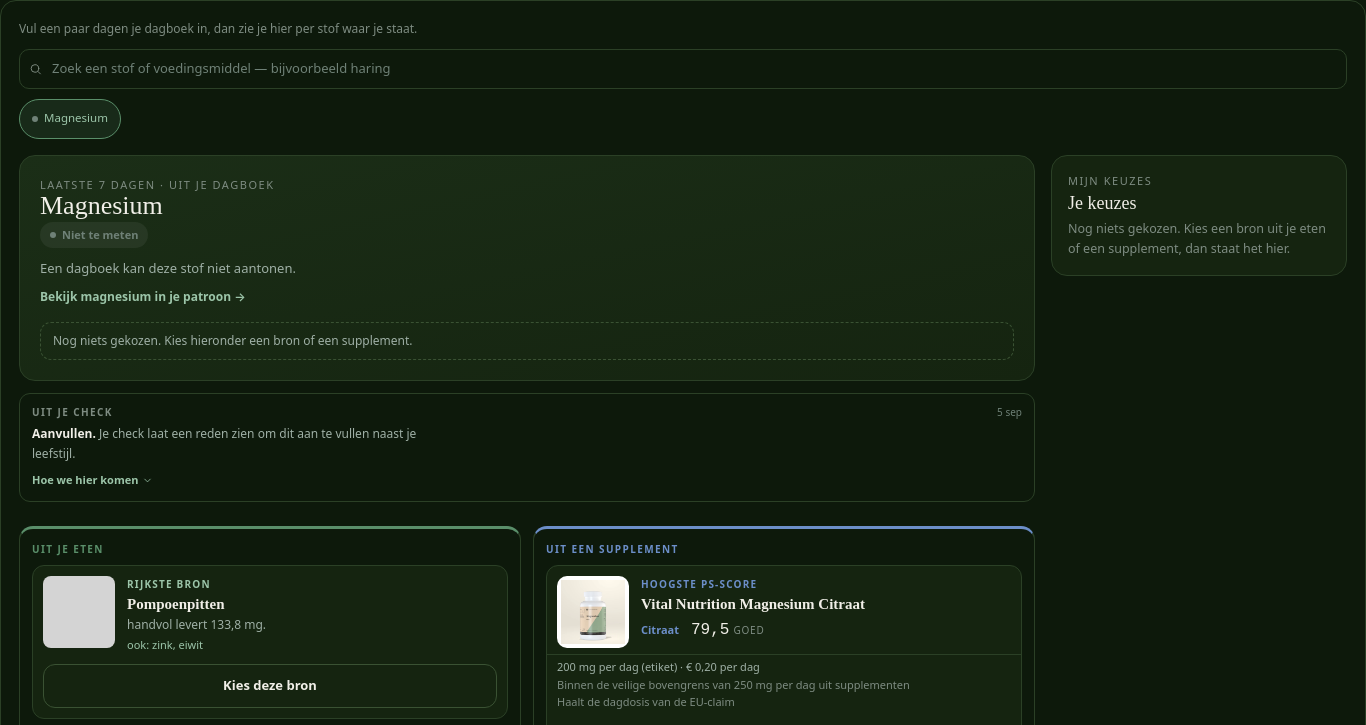
KeuzeVergelijken › toont het oordeel uit je check alleen als antwoord waar het dagboek de stof niet kan meten
Expected: the text "Zekerheid" is not shown
Click the button "Hoe we hier komen".
click(93, 480)  # box [32,471,154,489]
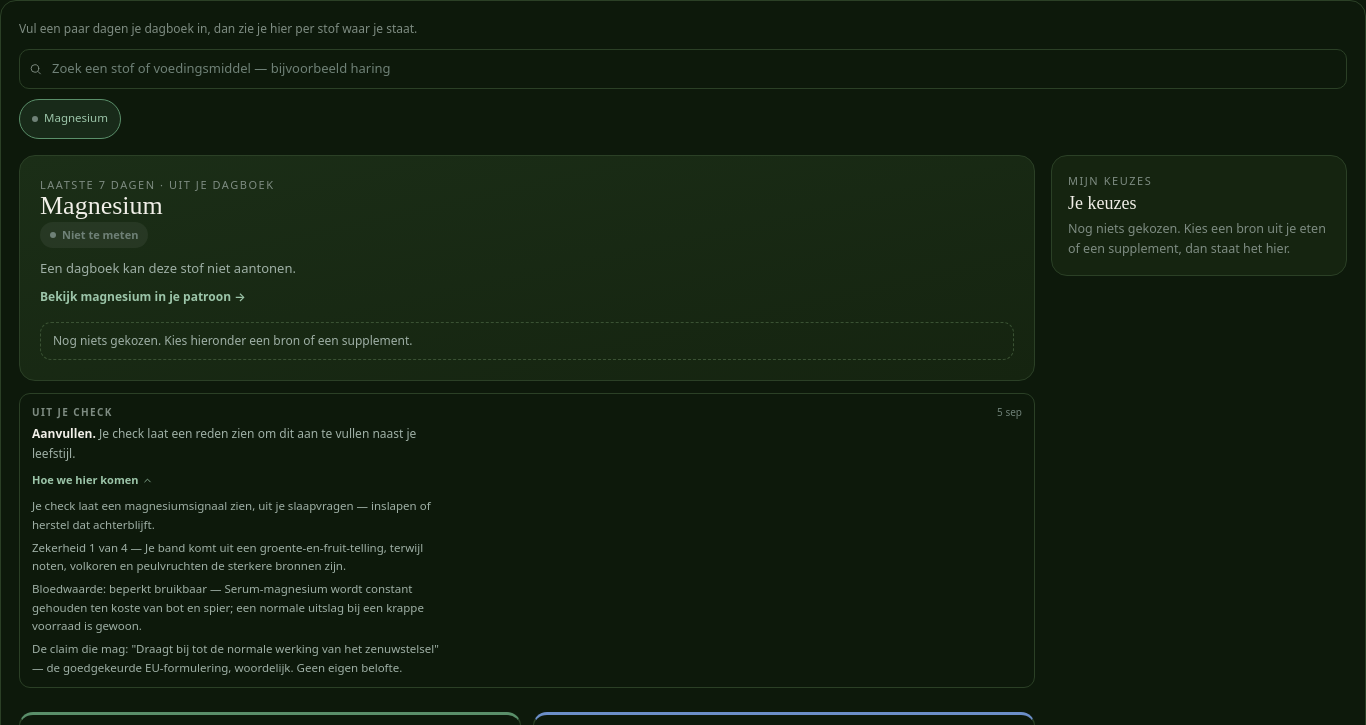
Result: the list item "magnesiumsignaal" is shown at [32,498,431,532]
